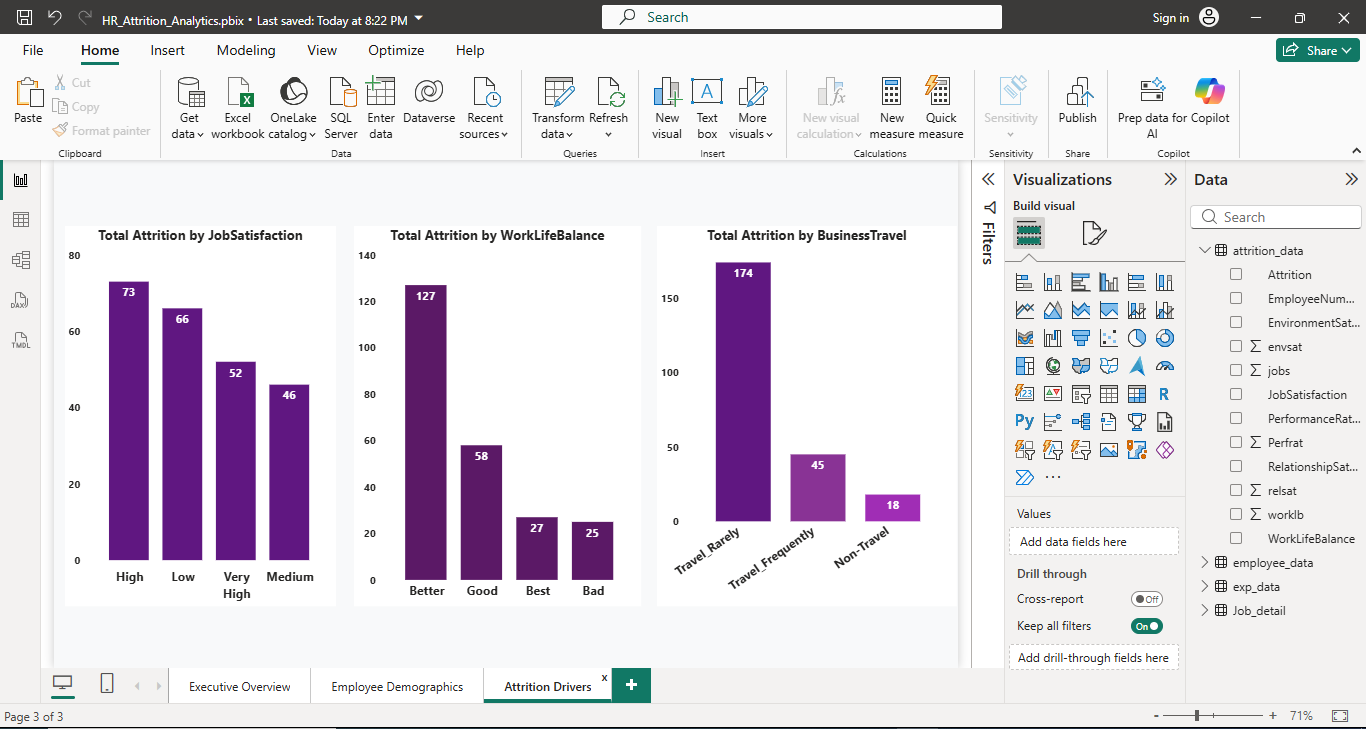

The page's visual inventory and layout, read from the dashboard file:
{"tool":"powerbi","page":{"name":"Attrition Drivers","canvas":[1280,720],"ordinal":2},"visuals":[{"type":"clusteredColumnChart","fields":{"Y":["Job_detail.Total Attrition"],"Category":["attrition_data.JobSatisfaction"]},"box":[15.6,93.5,384.1,538.6],"z":0},{"type":"clusteredColumnChart","fields":{"Y":["Job_detail.Total Attrition"],"Category":["employee_data.BusinessTravel"]},"box":[854.6,93.5,425.2,538.6],"z":1000},{"type":"clusteredColumnChart","fields":{"Y":["Job_detail.Total Attrition"],"Category":["attrition_data.WorkLifeBalance"]},"box":[425.2,93.5,406.8,538.6],"z":2000}]}

Visuals, with their boxes on the page's 1280x720 design canvas (x1, y1, x2, y2). These are canvas units, not pixel positions in the 1366x729 screenshot, which may show the page scaled, cropped or inside an application window:
clusteredColumnChart - Job_detail.Total Attrition x attrition_data.JobSatisfaction: bbox=(16, 94, 400, 632)
clusteredColumnChart - Job_detail.Total Attrition x employee_data.BusinessTravel: bbox=(855, 94, 1280, 632)
clusteredColumnChart - Job_detail.Total Attrition x attrition_data.WorkLifeBalance: bbox=(425, 94, 832, 632)
